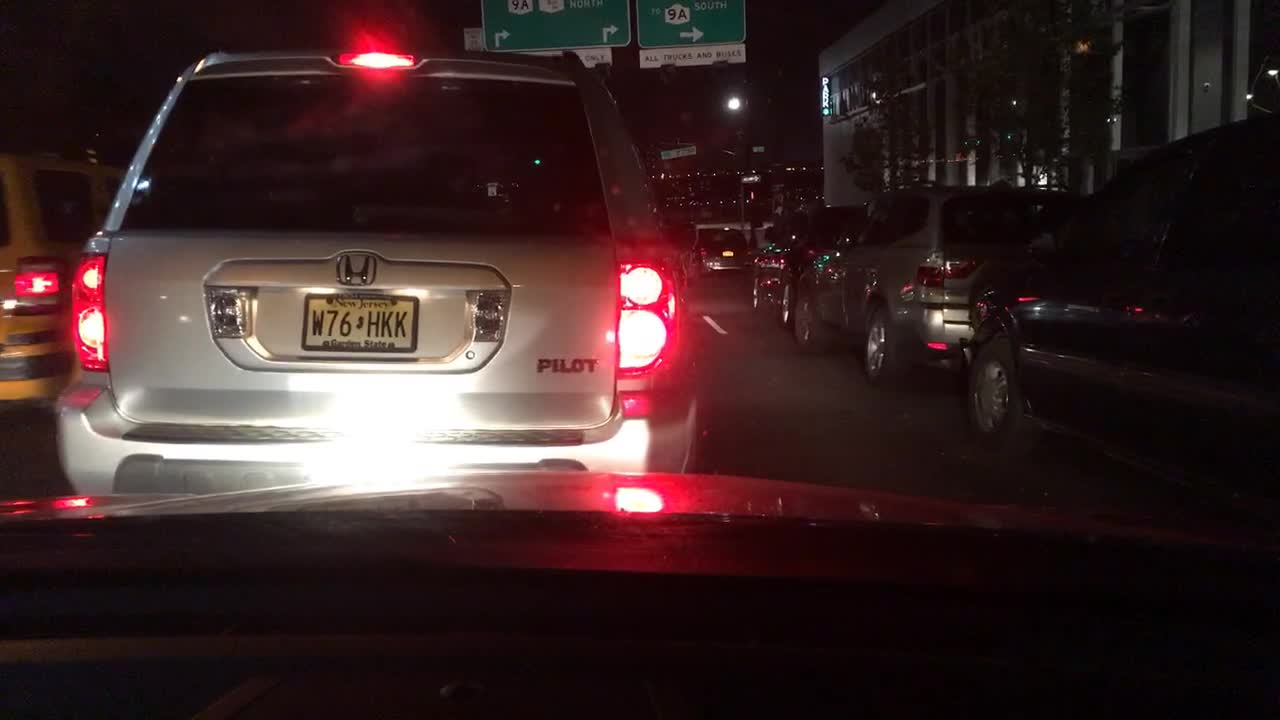car: (52, 43, 710, 498), (960, 109, 1280, 517), (790, 180, 1085, 383), (0, 150, 134, 411), (747, 196, 866, 321), (679, 221, 750, 281)
traffic sign: (477, 2, 626, 64), (634, 2, 751, 68), (657, 144, 697, 157)
